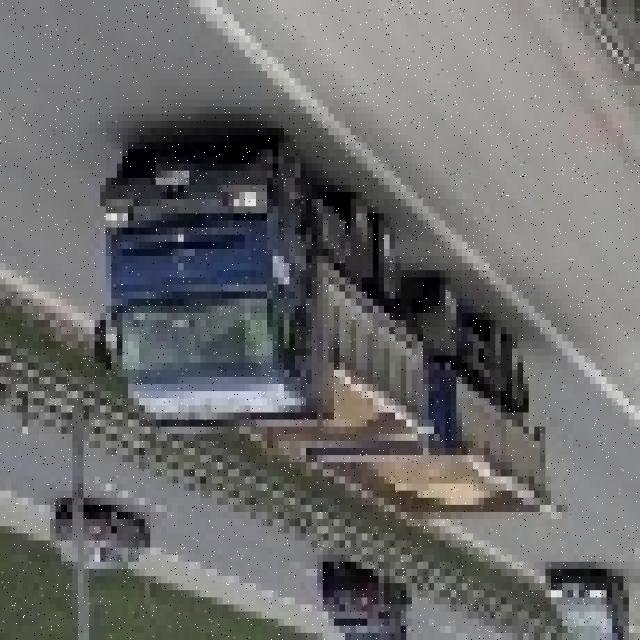truck: (88, 135, 546, 526)
